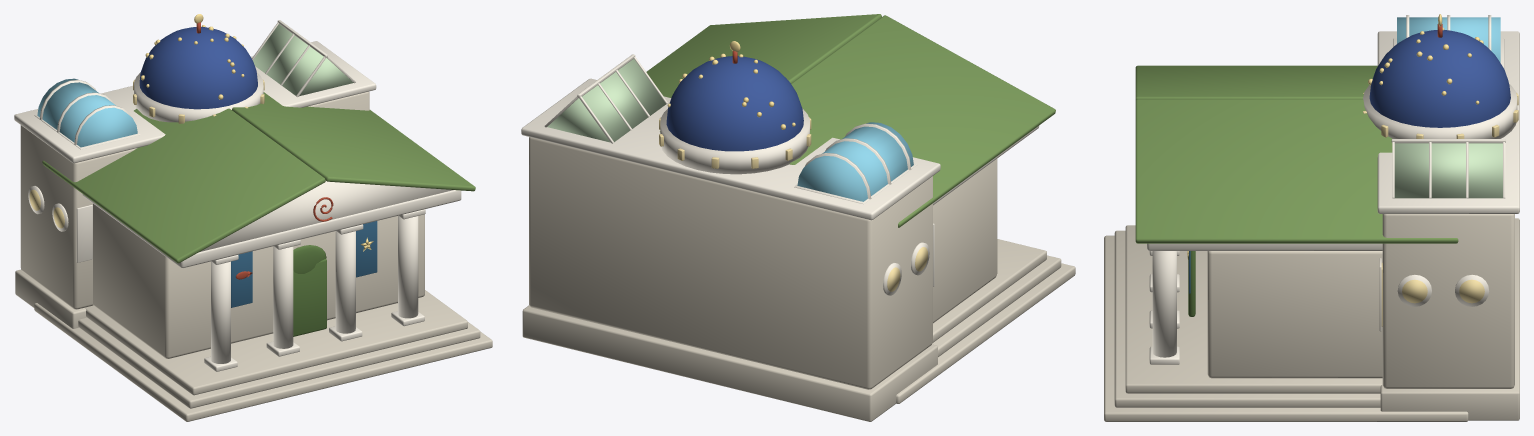
The model's file is museum.glb.
3 renders of one model, left to right at view 1: azimuth 30°, elevation 25°; view 2: azimuth 150°, elevation 25°; view 3: azimuth 270°, elevation 25°, orthographic. The views are drawn at different scales.
Visible parts, largest first — view 1: museum.001, annex, dome, aqua, greenhouse, banners; view 2: annex, museum.001, dome, aqua, greenhouse; view 3: museum.001, annex, dome, greenhouse, aqua.
Boxes of the visible parts, x1,y1,x2,y2 form: museum.001: (34,92,492,421); annex: (14,41,376,328); dome: (133,14,264,123); aqua: (34,78,140,149); greenhouse: (252,20,355,96); banners: (231,221,377,307); annex: (521,78,940,421); museum.001: (646,14,1075,403); dome: (659,41,811,174); aqua: (794,122,916,204); greenhouse: (544,54,667,143); museum.001: (1104,65,1468,421); annex: (1377,31,1519,420); dome: (1363,14,1518,138); greenhouse: (1391,139,1505,198); aqua: (1393,15,1504,68).
Bounding box in the file's own units: 5.9 × 4.93 × 5.82.
